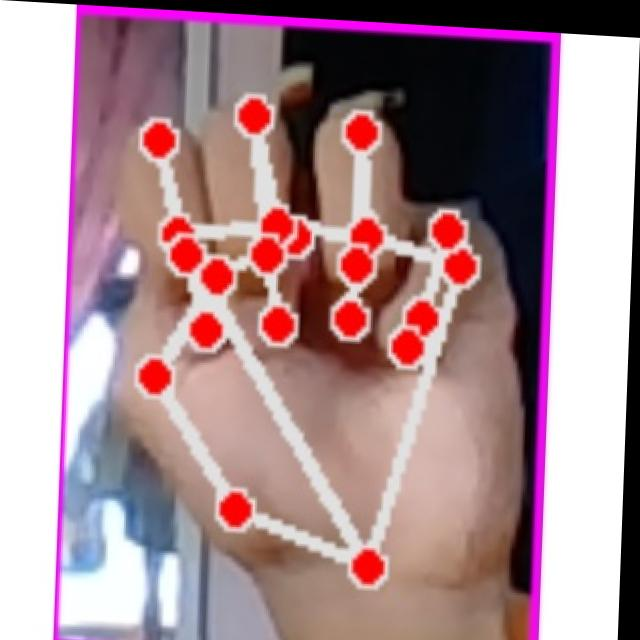M: (81, 58, 540, 629)
